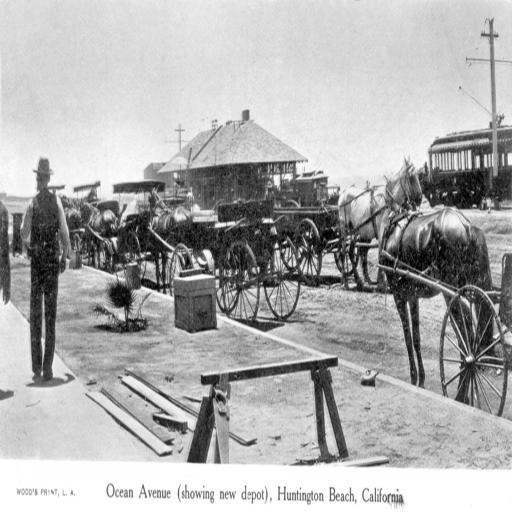horse: (380, 206, 494, 406), (358, 152, 410, 286), (149, 186, 194, 293), (78, 198, 120, 274), (64, 206, 84, 248)
